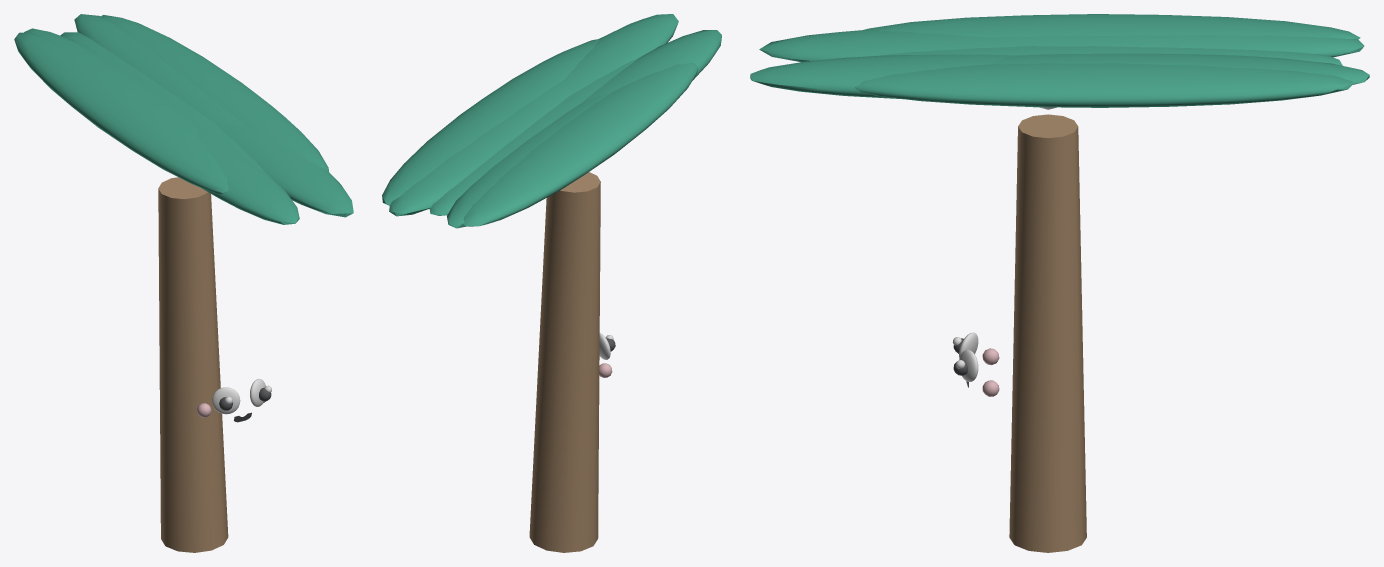
The model's file is howea-forsteriana.glb.
3 views of the same model, side by side, from view 1: azimuth 30°, elevation 25°; view 2: azimuth 150°, elevation 25°; view 3: azimuth 270°, elevation 25° (orthographic). The views are drawn at different scales.
Parts seen in each view (by area): view 1: trunk, frond3, frond0, frond1, frond6, frond2, frond5, frond4, pface-eye-r; view 2: trunk, frond3, frond0, frond6, frond1, frond2, frond5, frond4; view 3: trunk, frond0, frond3, frond1, frond2, frond4, frond6, frond5.
Part boxes in pixels (x1,y1,x2,y2): trunk: (158, 177, 228, 552); frond3: (14, 32, 228, 193); frond0: (101, 15, 328, 171); frond1: (215, 122, 353, 217); frond6: (74, 14, 245, 125); frond2: (193, 123, 299, 224); frond5: (60, 32, 270, 177); frond4: (24, 28, 198, 137); pface-eye-r: (212, 387, 240, 414); trunk: (529, 172, 600, 552); frond3: (463, 63, 697, 226); frond0: (382, 39, 599, 205); frond6: (389, 80, 569, 216); frond1: (563, 14, 678, 95); frond2: (581, 30, 721, 103); frond5: (429, 54, 644, 215); frond4: (447, 92, 611, 228); trunk: (1009, 114, 1086, 552); frond0: (855, 63, 1353, 107); frond3: (862, 14, 1360, 39); frond1: (750, 54, 1018, 99); frond2: (759, 30, 1030, 62); frond4: (989, 35, 1364, 57); frond6: (991, 53, 1369, 84); frond5: (868, 46, 1342, 65).
Size of the model in its own units: 0.2315 by 0.6308 by 0.7194.
